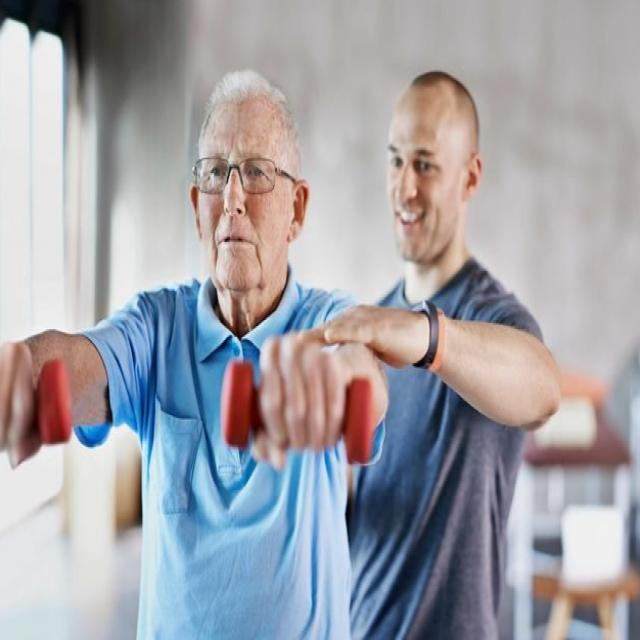Glasses: (189, 152, 304, 202)
